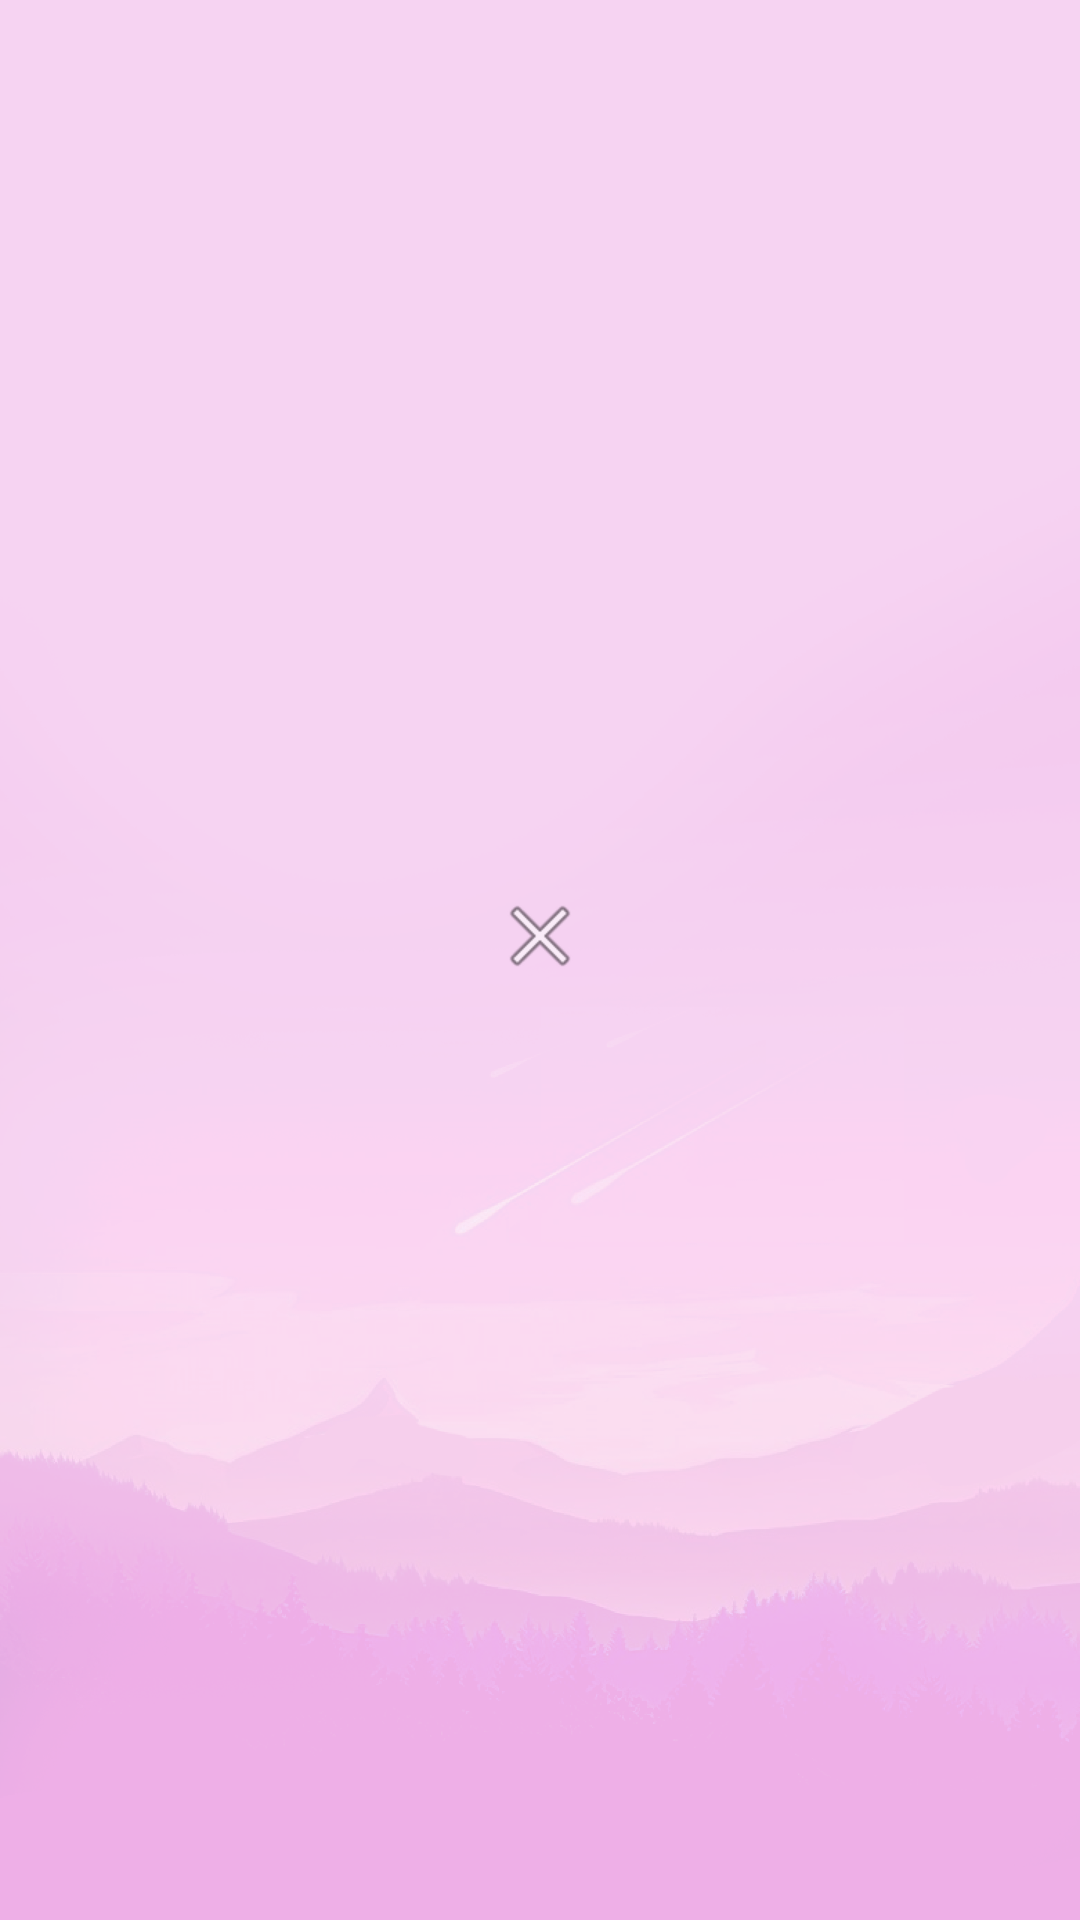

Where icons sit on this 1080 × 1920 app screen, as region(x1, y1, x2, y2):
close clear cancel: region(510, 906, 570, 966)
